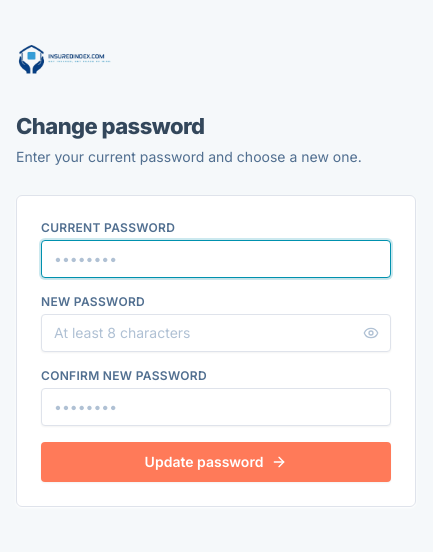
Test: ChangePasswordPage — agents cannot self-service their password › an ADMIN submitting the wrong current password sees an inline error and is not redirected
This screenshot has width=433, height=552.
Type "WrongPassword@123" into the 1st password field with placeholder "••••••••" at (216, 258), box [41,240,391,278]
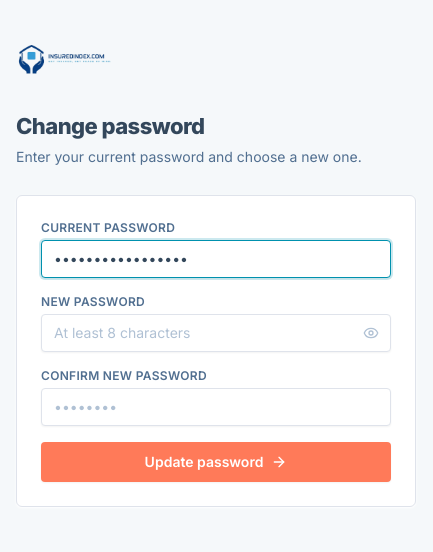
Type "NewPassword@456" into the password field with placeholder "At least 8 characters" at (216, 332), box [41,314,391,352]
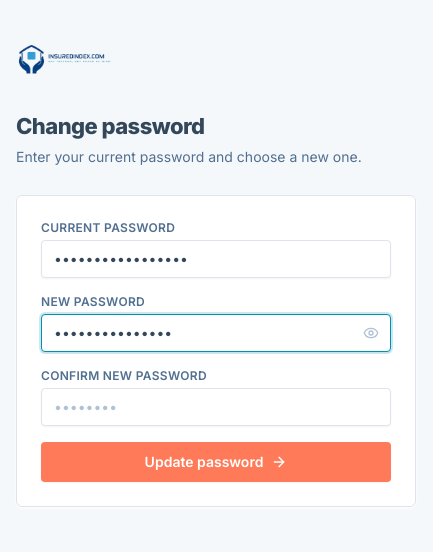
Type "NewPassword@456" into the password field with placeholder "••••••••" at (216, 406), box [41,388,391,426]
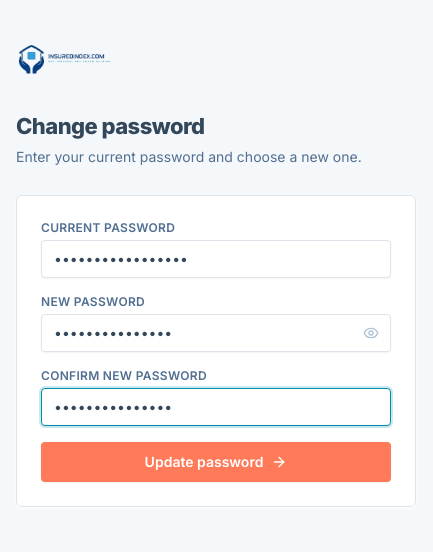
Click the button "Update password" at (216, 462), box [41,442,391,482]
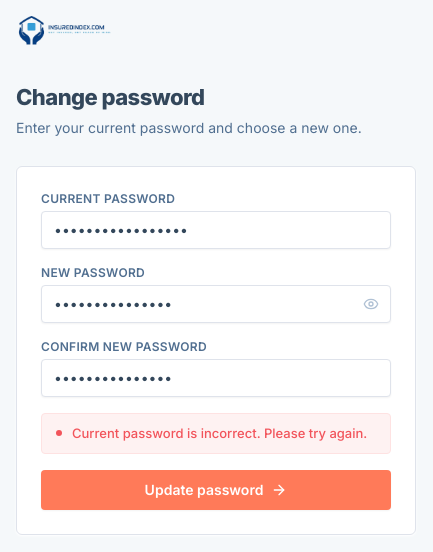
Expected: the text "Current password is incorrect. Please try again." is shown, [72,424,367,443]
